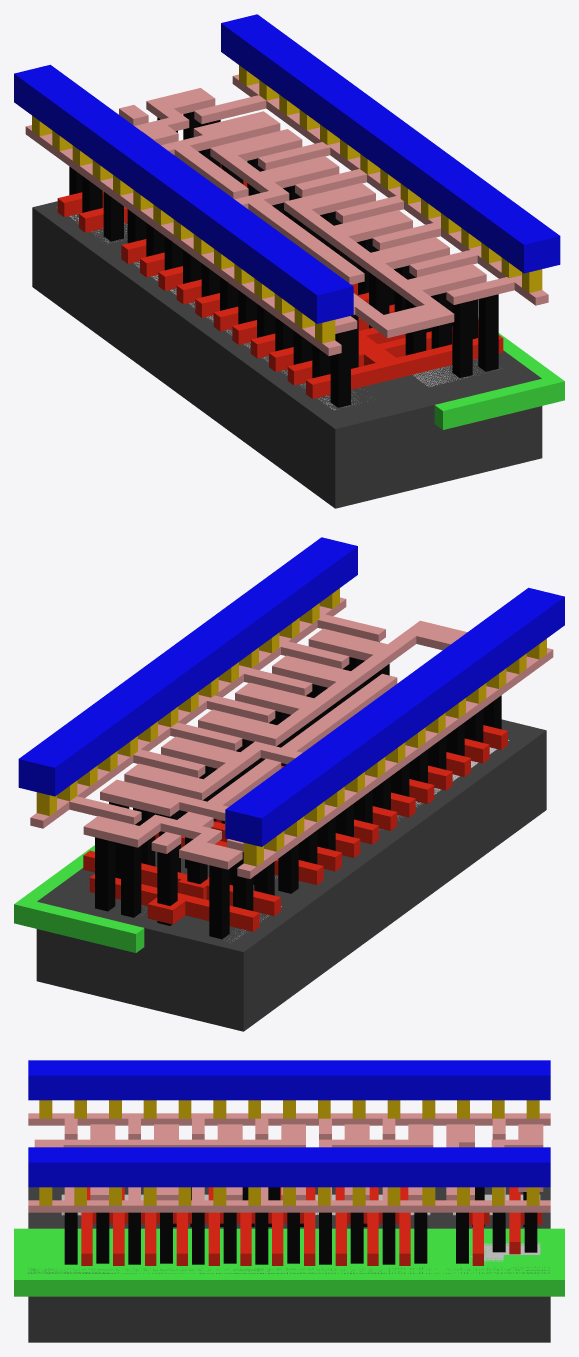
Rendered from sky130_fd_sc_hd__bufbuf_8.obj.
The picture shows the model from 3 angles, top to bottom: view 1: azimuth 30°, elevation 25°; view 2: azimuth 150°, elevation 25°; view 3: azimuth 270°, elevation 25°; orthographic projection. The views are drawn at different scales.
Visible parts, largest first — view 1: subs, metal1, li, licon, poly, mcon, nwell; view 2: subs, metal1, li, licon, poly, mcon, nwell; view 3: metal1, subs, nwell, li, licon, poly, mcon, tap, diff.
Part boxes in pixels (left/top/right/bottom): subs: left=32, top=201, right=542, bottom=508; metal1: left=14, top=14, right=560, bottom=323; li: left=25, top=74, right=548, bottom=355; licon: left=69, top=111, right=498, bottom=407; poly: left=57, top=164, right=503, bottom=398; mcon: left=32, top=65, right=542, bottom=343; nwell: left=246, top=161, right=564, bottom=429; subs: left=36, top=719, right=546, bottom=1031; metal1: left=18, top=537, right=564, bottom=846; li: left=30, top=597, right=553, bottom=878; licon: left=95, top=642, right=501, bottom=939; poly: left=83, top=725, right=507, bottom=931; mcon: left=36, top=588, right=546, bottom=866; nwell: left=14, top=845, right=144, bottom=952; metal1: left=28, top=1060, right=550, bottom=1187; subs: left=28, top=1187, right=550, bottom=1342; nwell: left=14, top=1228, right=564, bottom=1296; li: left=28, top=1113, right=550, bottom=1212; licon: left=64, top=1187, right=537, bottom=1264; poly: left=81, top=1187, right=542, bottom=1265; mcon: left=39, top=1100, right=539, bottom=1205; tap: left=469, top=1242, right=540, bottom=1262; diff: left=61, top=1194, right=540, bottom=1215.
Bounding box in the file's own units: 3.2 × 2.74 × 7.28.
